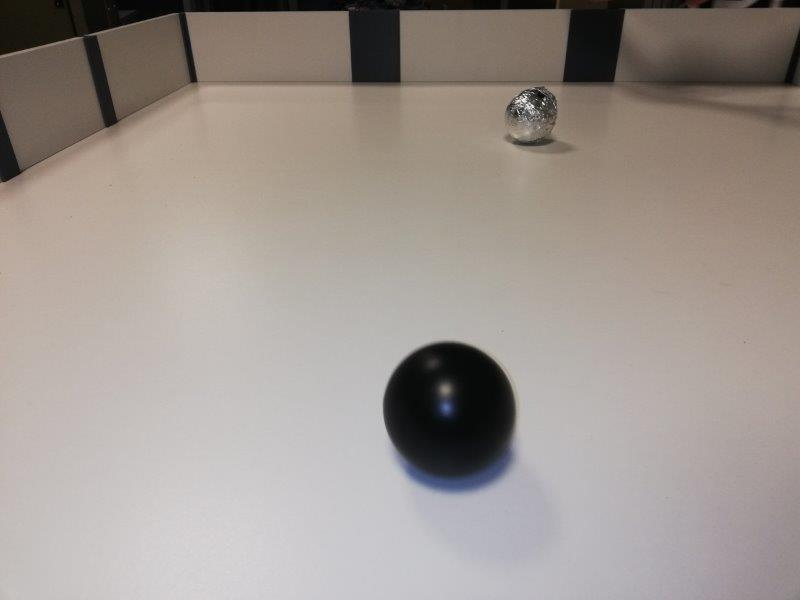bianca: (504, 85, 557, 143)
nera: (385, 340, 517, 477)
